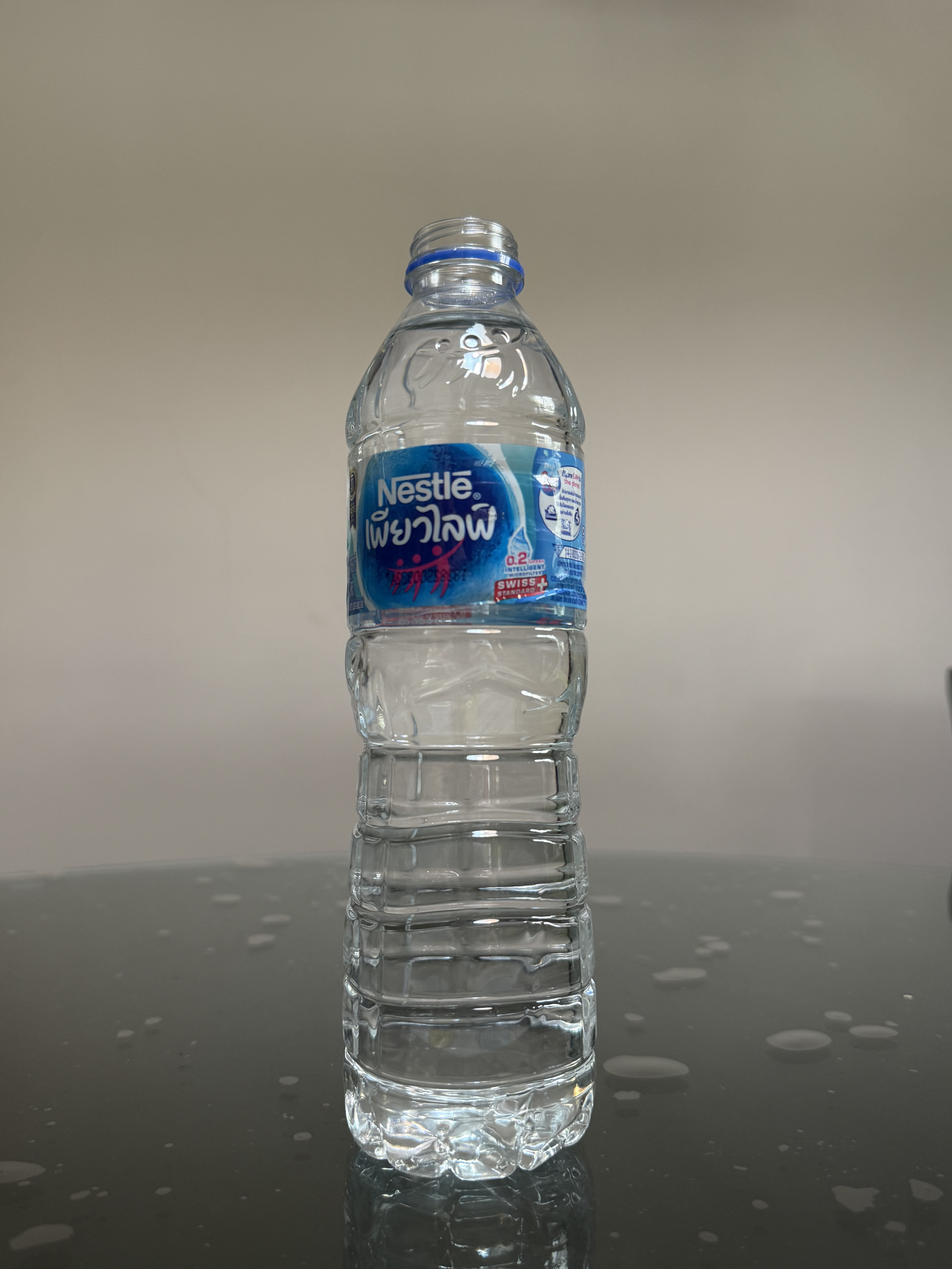no_cap: (404, 216, 525, 294)
